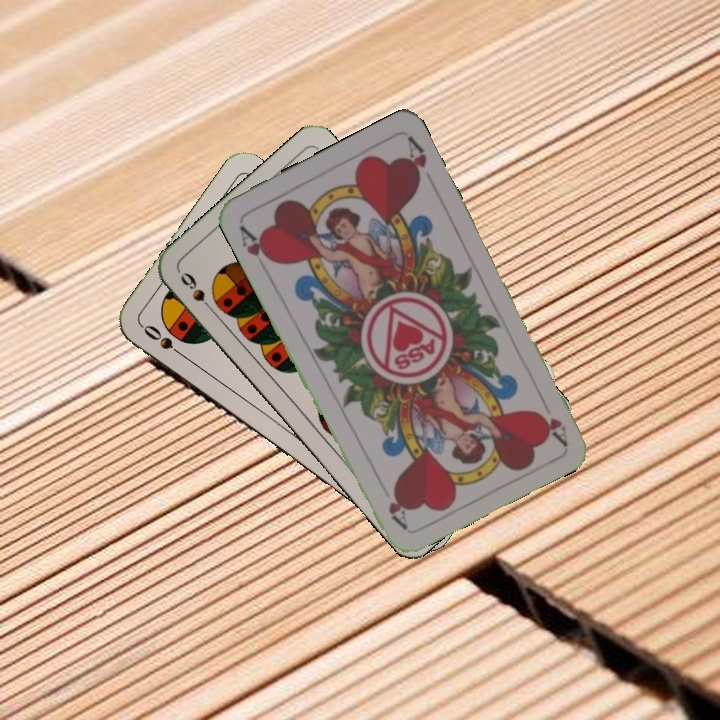HA: (235, 221, 277, 275), (533, 391, 570, 447)
S9: (176, 268, 219, 317)
SO: (138, 320, 190, 362)
